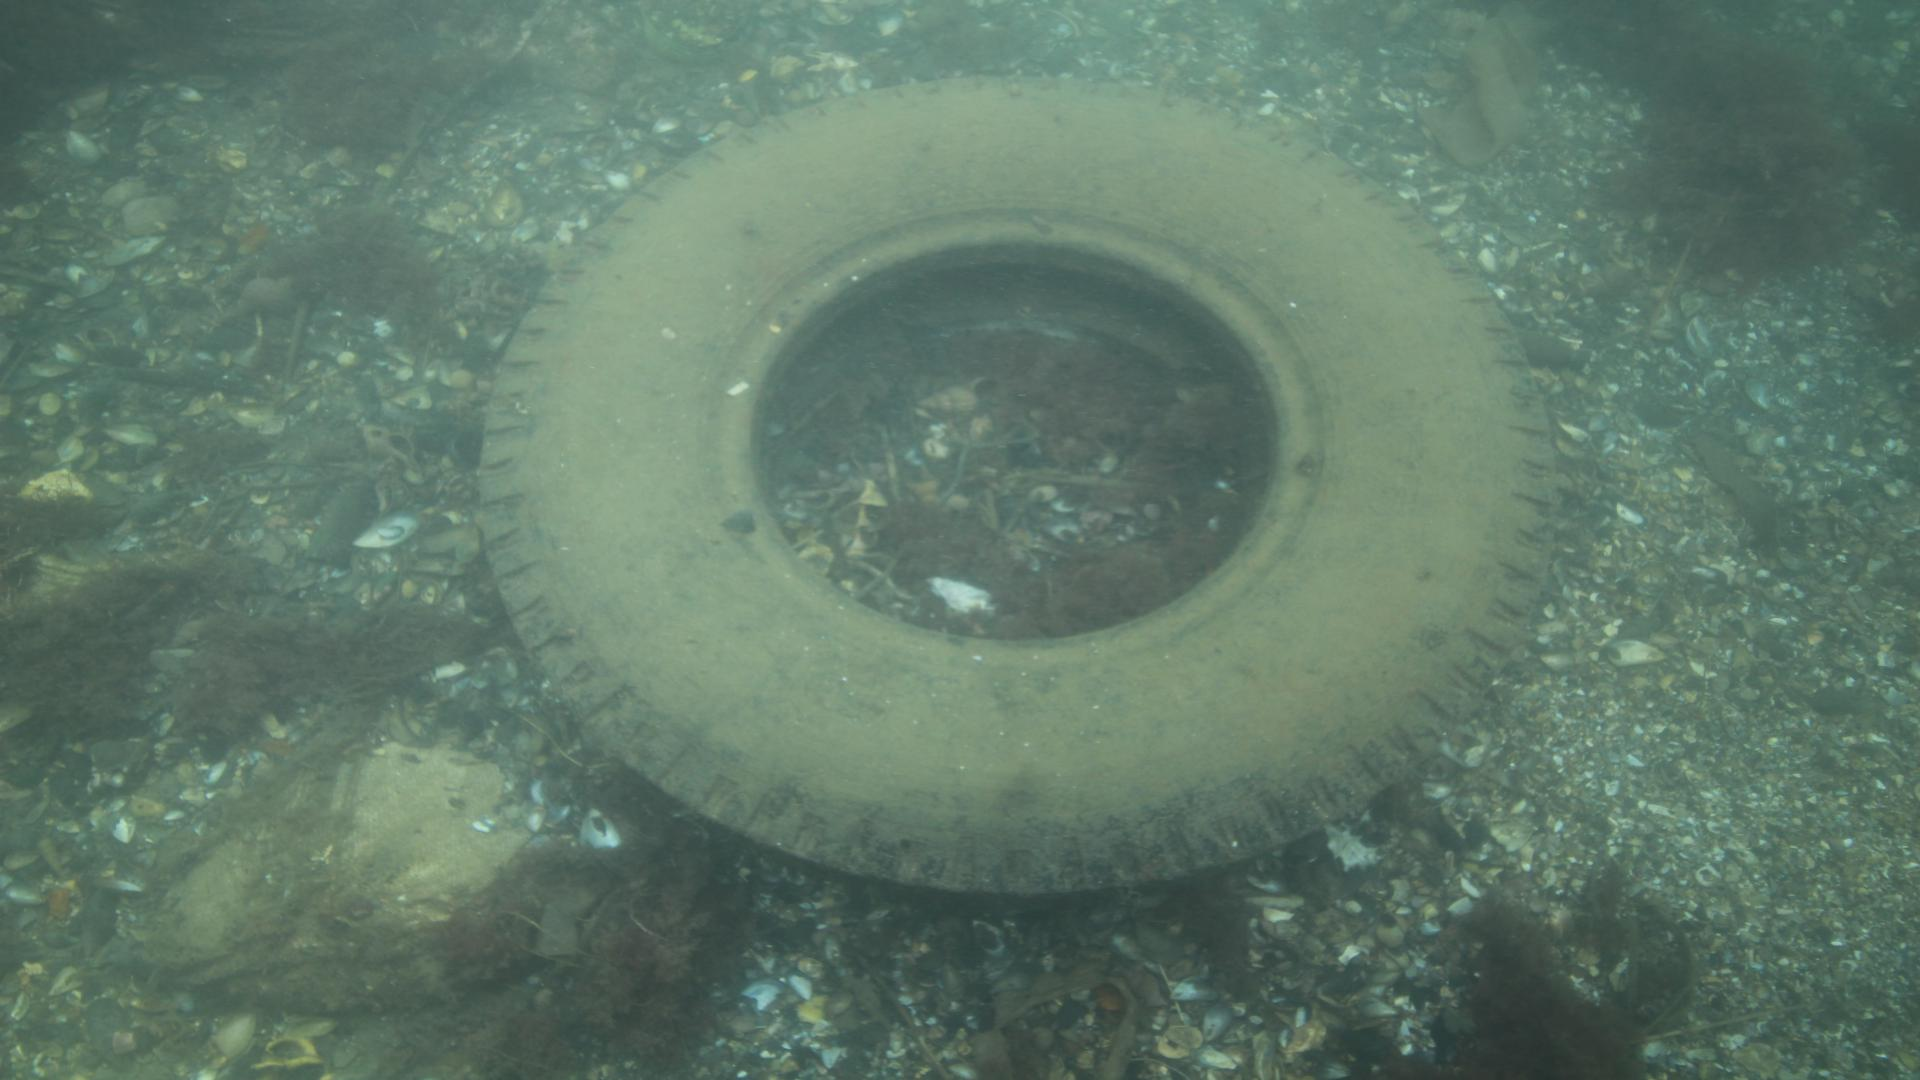tire: (473, 73, 1556, 902)
